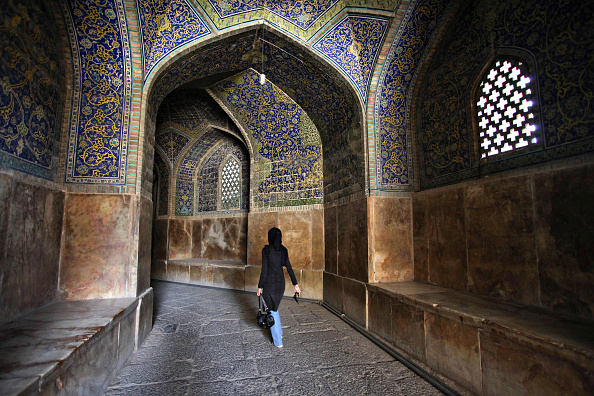em pe: (245, 225, 296, 339)
